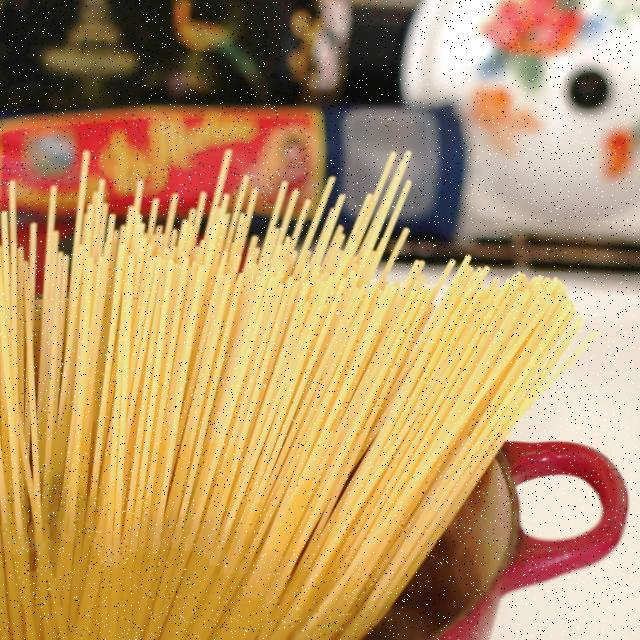Noodles: (0, 162, 579, 640)
